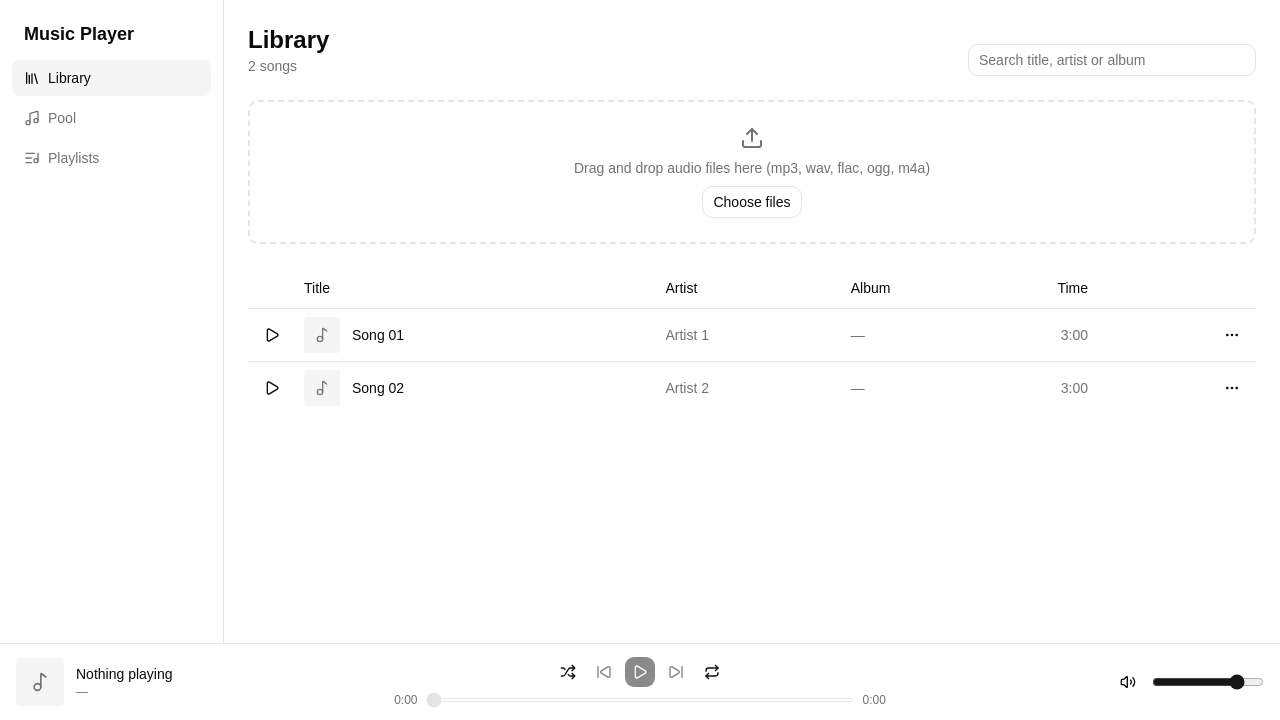
Scenario: Adding songs from the library › F-PY-05 adds a song to a playlist from the row menu, and reports repeats
Expected: the text "Song 01" is shown, [352,324,404,344]
Click the button named "Actions for Song 01". click: (1232, 334)
box: [1216,318,1248,350]
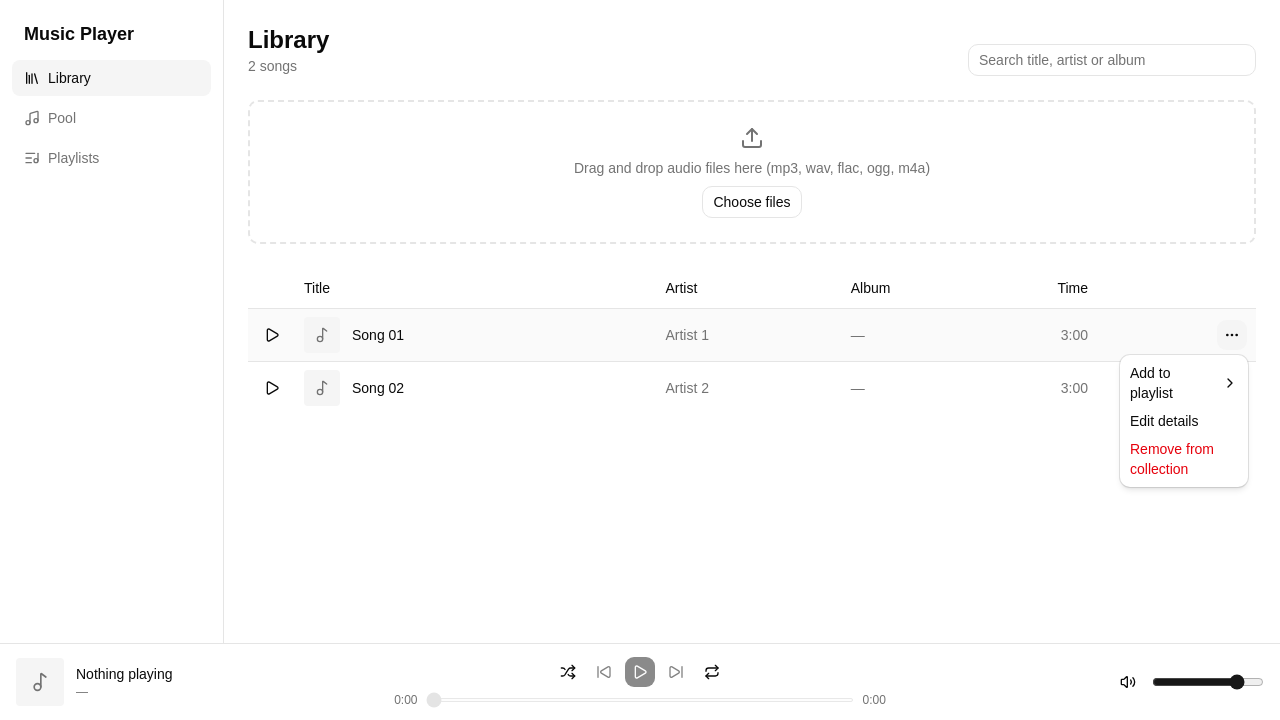
Click the menu item "Add to playlist". click: (1150, 373)
box: [1124,359,1244,407]
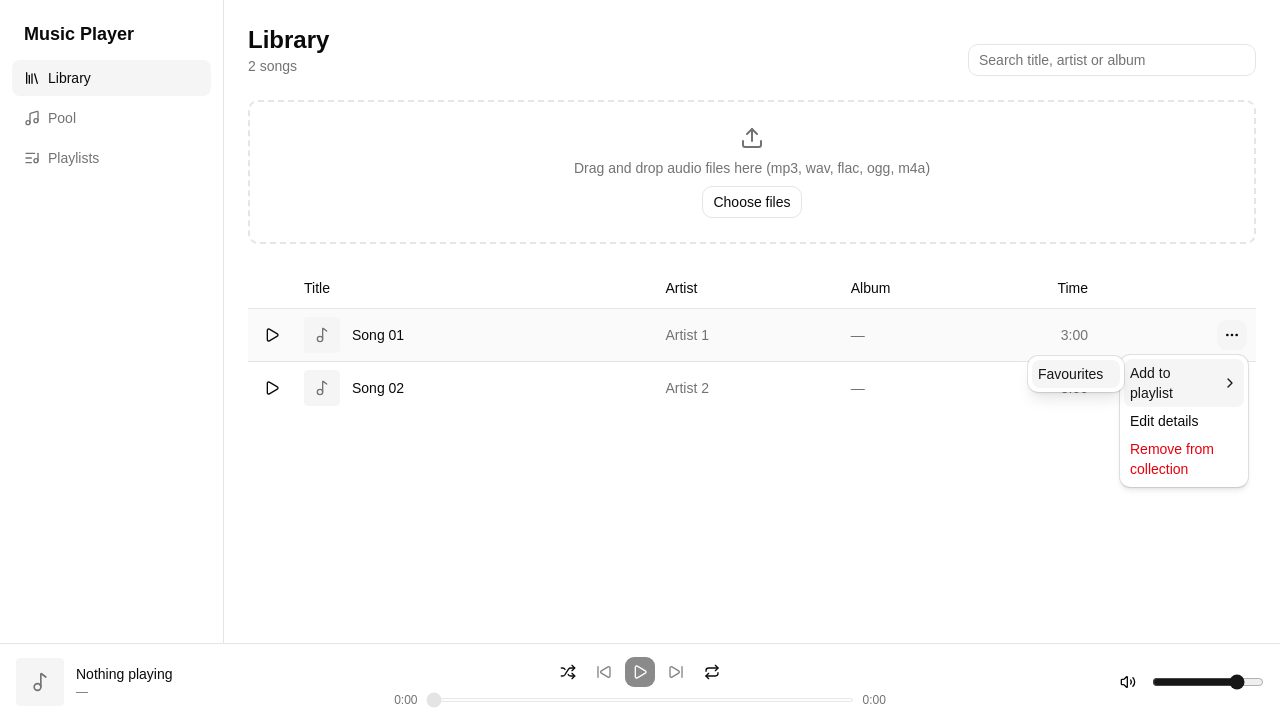
Press Enter
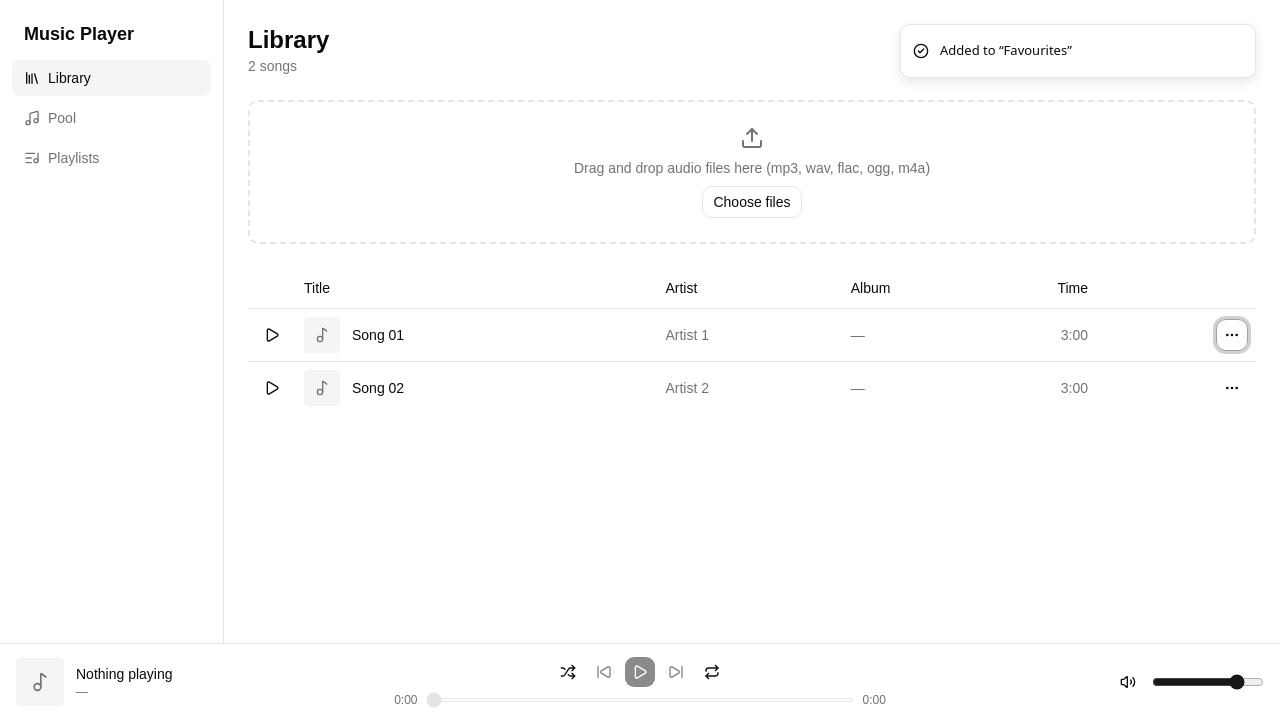
Result: the text "Added to “Favourites”" is shown at [940,41,1072,60]
Result: the menu is gone
Click the button named "Actions for Song 01". click: (1232, 334)
box: [1216,318,1248,350]
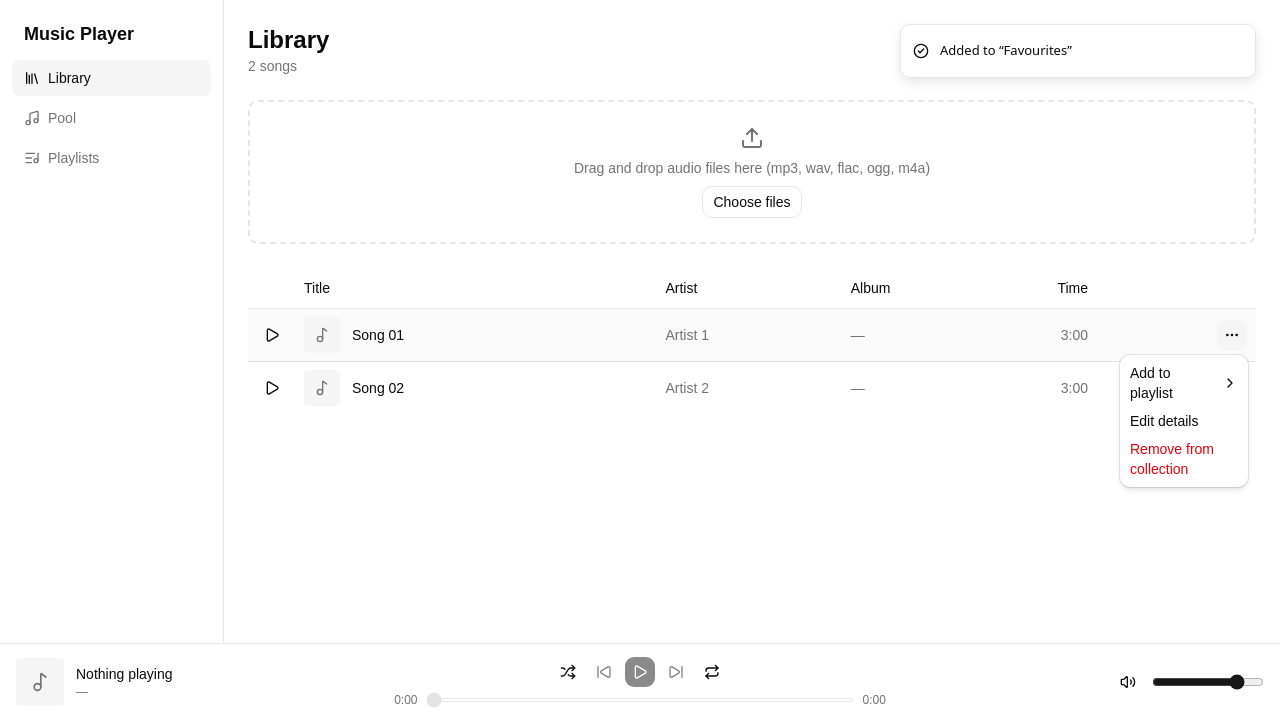
Click the menu item "Add to playlist". click: (1150, 373)
box: [1124,359,1244,407]
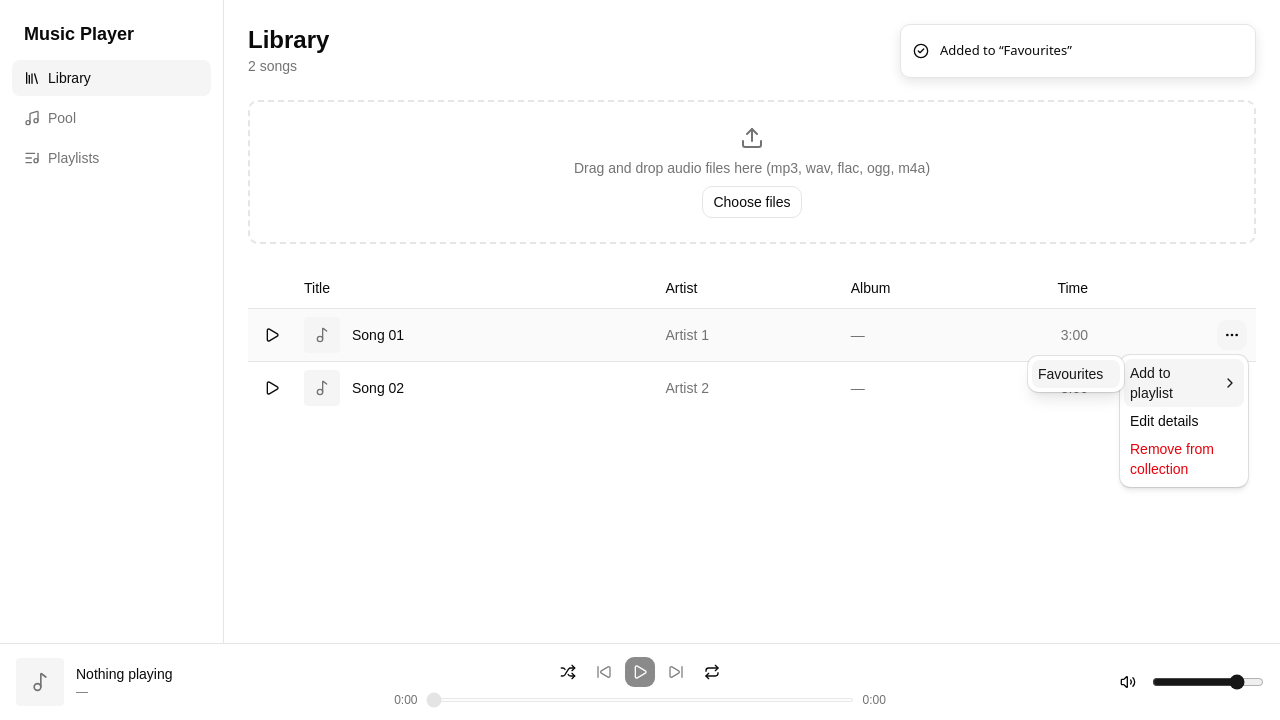
Press Enter
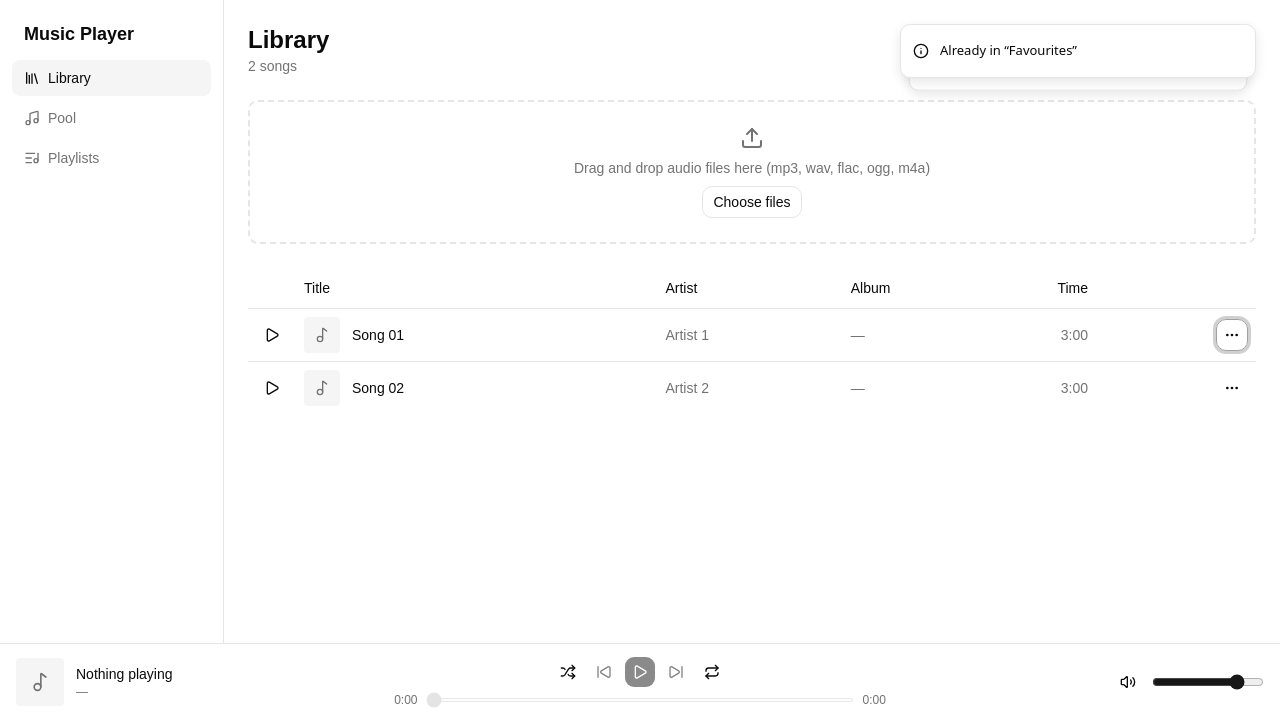
Result: the text "Already in “Favourites”" is shown at [940,41,1077,60]
